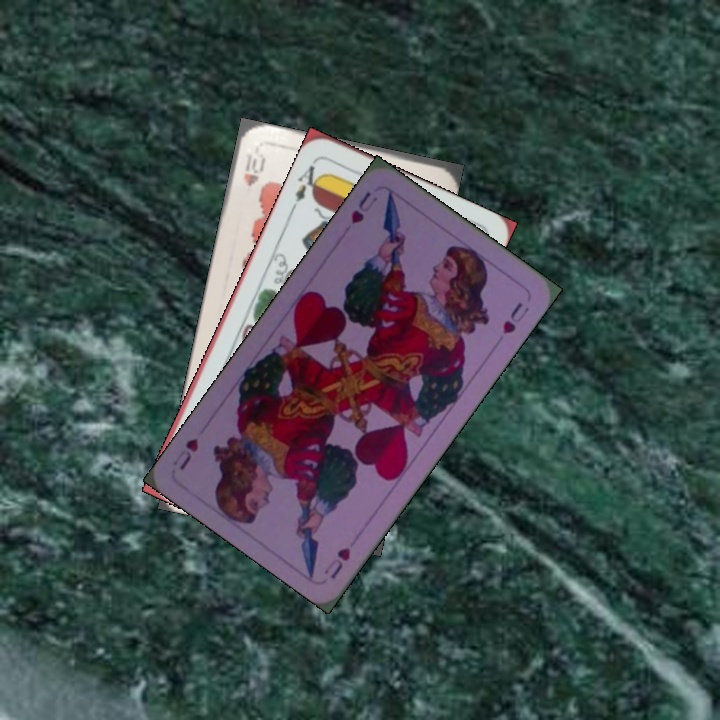EA: (291, 156, 326, 205)
H10: (239, 146, 267, 189)
HU: (319, 543, 353, 582), (347, 187, 380, 227)
